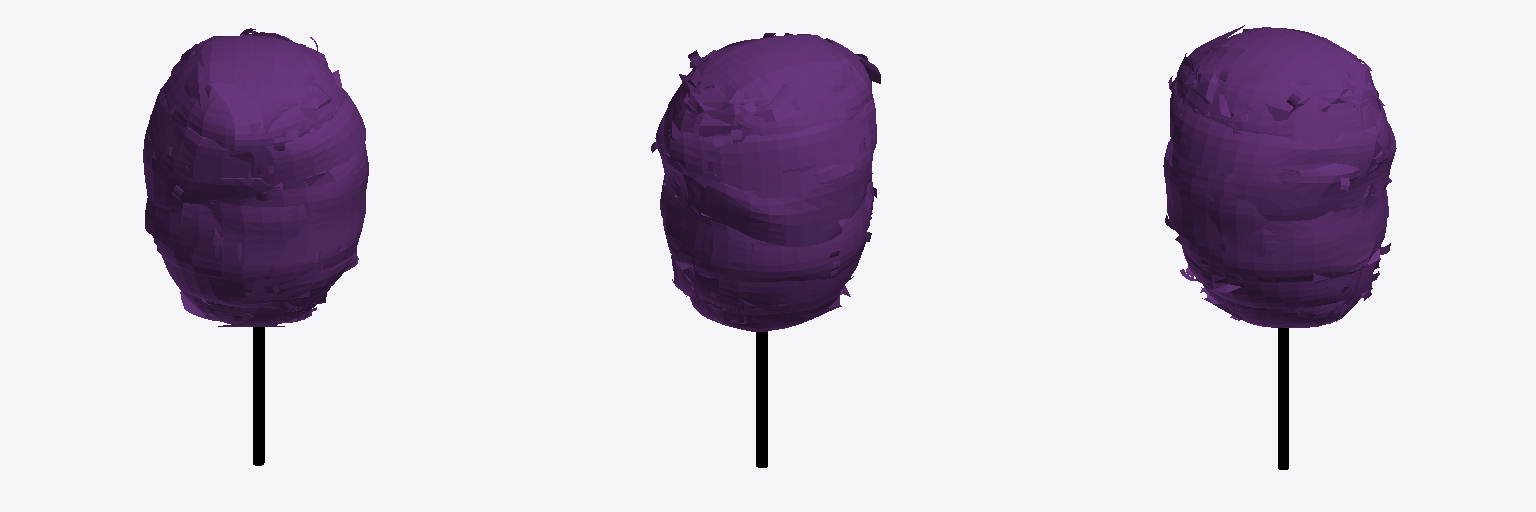
Rendered from tree2.obj.
The picture shows the model from 3 angles: view 1: azimuth 30°, elevation 25°; view 2: azimuth 150°, elevation 25°; view 3: azimuth 270°, elevation 25°; orthographic projection.
Visible parts, largest first — view 1: group4 pasted__pasted__Green1 pasted__pasted__Cotton_candy paste, pasted__group1 group4 pasted__pasted__pCylinder3; view 2: group4 pasted__pasted__Green1 pasted__pasted__Cotton_candy paste, pasted__group1 group4 pasted__pasted__pCylinder3; view 3: group4 pasted__pasted__Green1 pasted__pasted__Cotton_candy paste, pasted__group1 group4 pasted__pasted__pCylinder3.
Boxes of the visible parts, <box> form: group4 pasted__pasted__Green1 pasted__pasted__Cotton_candy paste: <box>143,28,368,463</box>; pasted__group1 group4 pasted__pasted__pCylinder3: <box>253,327,263,465</box>; group4 pasted__pasted__Green1 pasted__pasted__Cotton_candy paste: <box>651,33,880,331</box>; pasted__group1 group4 pasted__pasted__pCylinder3: <box>756,331,767,467</box>; group4 pasted__pasted__Green1 pasted__pasted__Cotton_candy paste: <box>1163,25,1396,467</box>; pasted__group1 group4 pasted__pasted__pCylinder3: <box>1278,328,1288,469</box>.
Size of the model in its own units: 4.67 by 9.81 by 4.94.